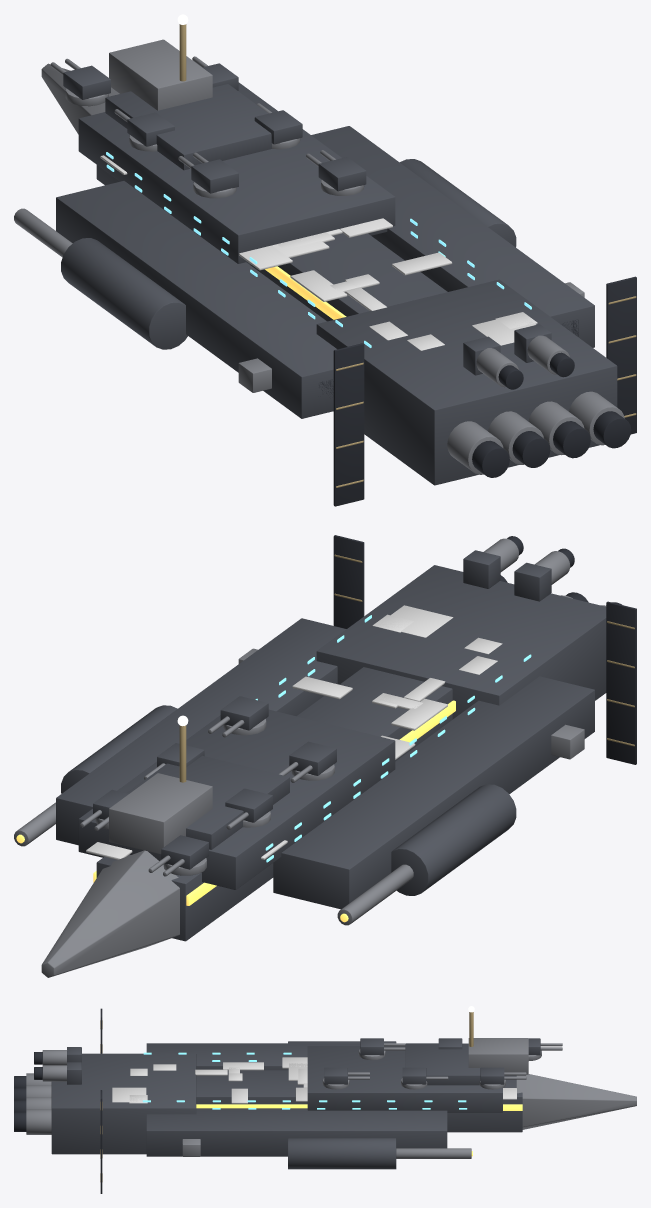
The model's file is cruiser.glb.
3 renders of one model, top to bottom at view 1: azimuth 30°, elevation 25°; view 2: azimuth 150°, elevation 25°; view 3: azimuth 270°, elevation 25°, orthographic. The views are drawn at different scales.
Visible parts, largest first — view 1: cruiser; view 2: cruiser; view 3: cruiser.
Boxes of the visible parts, box(x1,y1,x2,y2) form: cruiser: box(14, 14, 636, 506); cruiser: box(14, 535, 636, 977); cruiser: box(14, 1006, 636, 1193).
Bounding box in the file's own units: 17.27 × 10.47 × 41.41.
